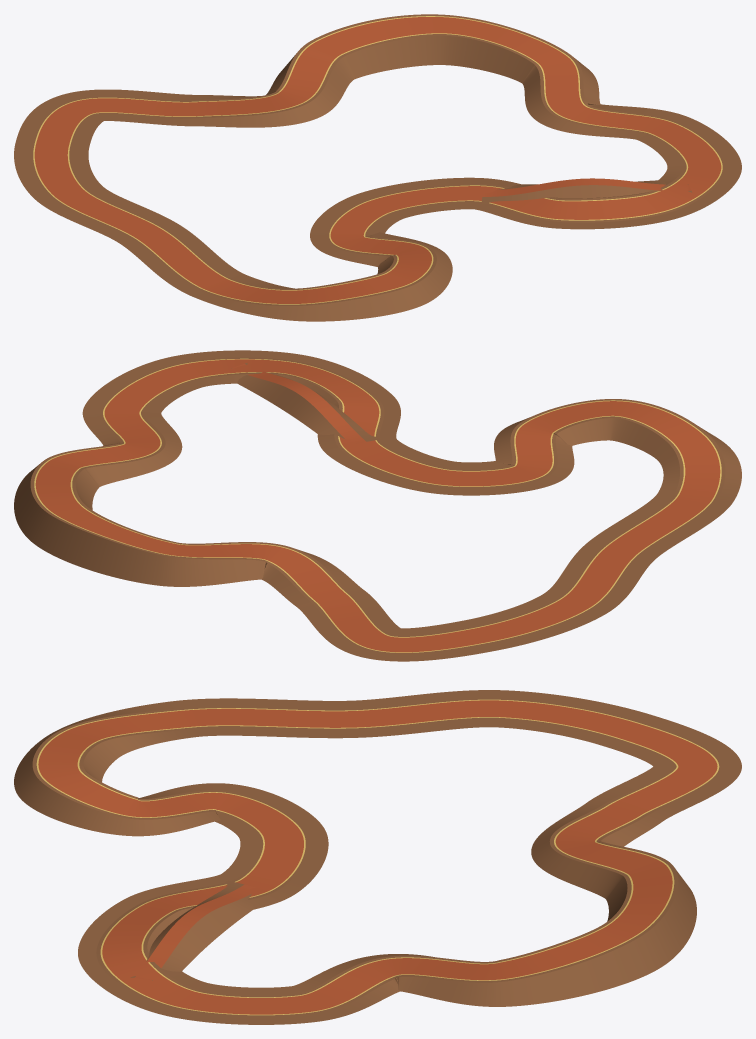
Rendered from course_cerrado.glb.
3 views of the same model, one above another, from view 1: azimuth 30°, elevation 25°; view 2: azimuth 150°, elevation 25°; view 3: azimuth 270°, elevation 25° (orthographic). The views are drawn at different scales.
Visible parts, largest first — view 1: Road, EarthSlopes.001, EarthSlopes, ShoulderLeft, ShoulderRight, EdgeLeft, EdgeRight, ShortcutSlopes, Shortcut; view 2: Road, EarthSlopes, EarthSlopes.001, ShoulderLeft, ShoulderRight, EdgeLeft, EdgeRight, ShortcutSlopes.001, Shortcut; view 3: Road, EarthSlopes, EarthSlopes.001, ShoulderLeft, ShoulderRight, EdgeLeft, EdgeRight, ShortcutSlopes.001, Shortcut, ShortcutSlopes.
Boxes of the visible parts, x1=… form: Road: x1=34, y1=17, x2=721, y2=303; EarthSlopes.001: x1=72, y1=35, x2=683, y2=288; EarthSlopes: x1=14, y1=53, x2=741, y2=321; ShoulderLeft: x1=29, y1=14, x2=726, y2=305; ShoulderRight: x1=69, y1=34, x2=686, y2=289; EdgeLeft: x1=33, y1=16, x2=722, y2=304; EdgeRight: x1=67, y1=33, x2=688, y2=290; ShortcutSlopes: x1=481, y1=185, x2=692, y2=204; Shortcut: x1=482, y1=178, x2=691, y2=196; Road: x1=35, y1=359, x2=720, y2=652; EarthSlopes: x1=14, y1=350, x2=741, y2=661; EarthSlopes.001: x1=76, y1=373, x2=679, y2=635; ShoulderLeft: x1=30, y1=357, x2=725, y2=654; ShoulderRight: x1=72, y1=372, x2=683, y2=636; EdgeLeft: x1=34, y1=358, x2=721, y2=652; EdgeRight: x1=70, y1=372, x2=685, y2=637; ShortcutSlopes.001: x1=231, y1=368, x2=344, y2=438; Shortcut: x1=232, y1=363, x2=366, y2=444; Road: x1=38, y1=700, x2=717, y2=1014; EarthSlopes: x1=14, y1=690, x2=741, y2=1024; EarthSlopes.001: x1=83, y1=719, x2=672, y2=995; ShoulderLeft: x1=32, y1=698, x2=723, y2=1016; ShoulderRight: x1=79, y1=717, x2=676, y2=997; EdgeLeft: x1=36, y1=699, x2=719, y2=1015; EdgeRight: x1=77, y1=717, x2=678, y2=997; ShortcutSlopes.001: x1=152, y1=894, x2=253, y2=980; Shortcut: x1=134, y1=884, x2=256, y2=980; ShortcutSlopes: x1=130, y1=880, x2=244, y2=977.
Bounding box in the file's own units: 324 × 14.2 × 297.
